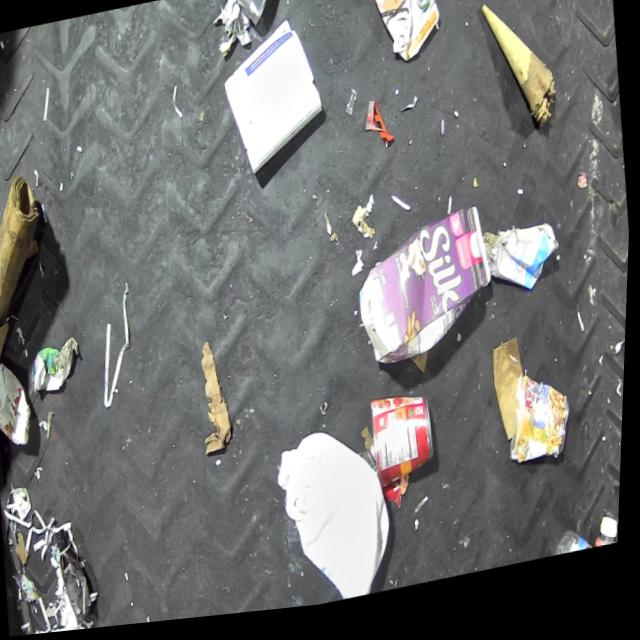can: (503, 375, 578, 477), (369, 393, 441, 497), (0, 356, 38, 451), (212, 0, 285, 38)
milk_jug: (271, 422, 404, 616)
non_white_jug: (352, 210, 502, 381), (359, 0, 444, 78)
